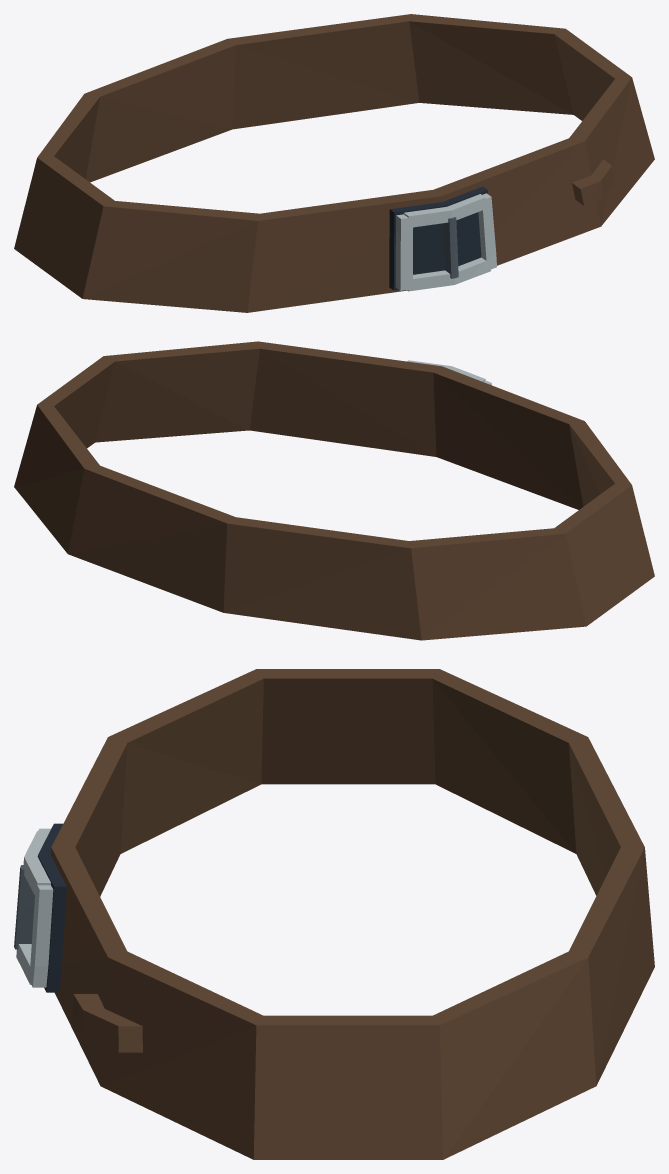
File: leather_waist-female-thickHide.glb
The picture shows the model from 3 angles, top to bottom: view 1: azimuth 30°, elevation 25°; view 2: azimuth 150°, elevation 25°; view 3: azimuth 270°, elevation 25°; orthographic projection. The views are drawn at different scales.
Parts seen in each view (by area): view 1: leather waist band, Buckle recessed backplate, Buckle side rail -0.145, Buckle cross rail 4.506, Buckle cross rail 4.294, Heavy hide binding leather waist band, Buckle side rail 0.145, Buckle pin; view 2: leather waist band; view 3: leather waist band, Heavy hide binding leather waist band, Buckle recessed backplate, Buckle side rail 0.145, Buckle pin, Buckle cross rail 4.506.
Part boxes in pixels (<box>): leather waist band: <box>14,14,654,312</box>; Buckle recessed backplate: <box>389,186,487,290</box>; Buckle side rail -0.145: <box>395,214,413,290</box>; Buckle cross rail 4.506: <box>403,194,485,227</box>; Buckle cross rail 4.294: <box>407,257,490,291</box>; Heavy hide binding leather waist band: <box>572,159,615,205</box>; Buckle side rail 0.145: <box>478,193,496,269</box>; Buckle pin: <box>443,217,458,278</box>; leather waist band: <box>14,341,654,640</box>; leather waist band: <box>50,669,654,1159</box>; Heavy hide binding leather waist band: <box>72,994,142,1052</box>; Buckle recessed backplate: <box>37,823,66,992</box>; Buckle side rail 0.145: <box>30,885,53,987</box>; Buckle pin: <box>14,865,34,949</box>; Buckle cross rail 4.506: <box>23,831,50,895</box>.
Size of the model in its own units: 2 by 0.2895 by 1.4.
